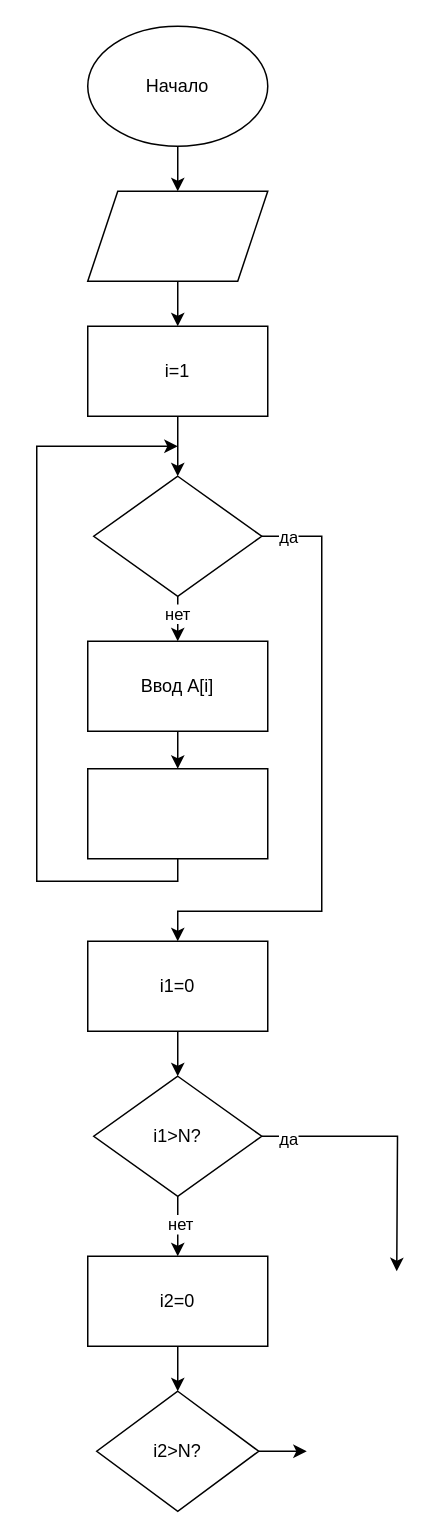
This 437x1538 diagram has some shape labels left out. The box of each missing label's shape, as (x1, y1, x2, y2) in pixels:
i=i+1: (86, 767, 268, 859)
i>N?: (92, 475, 262, 596)
Ввод N: (86, 190, 268, 281)
